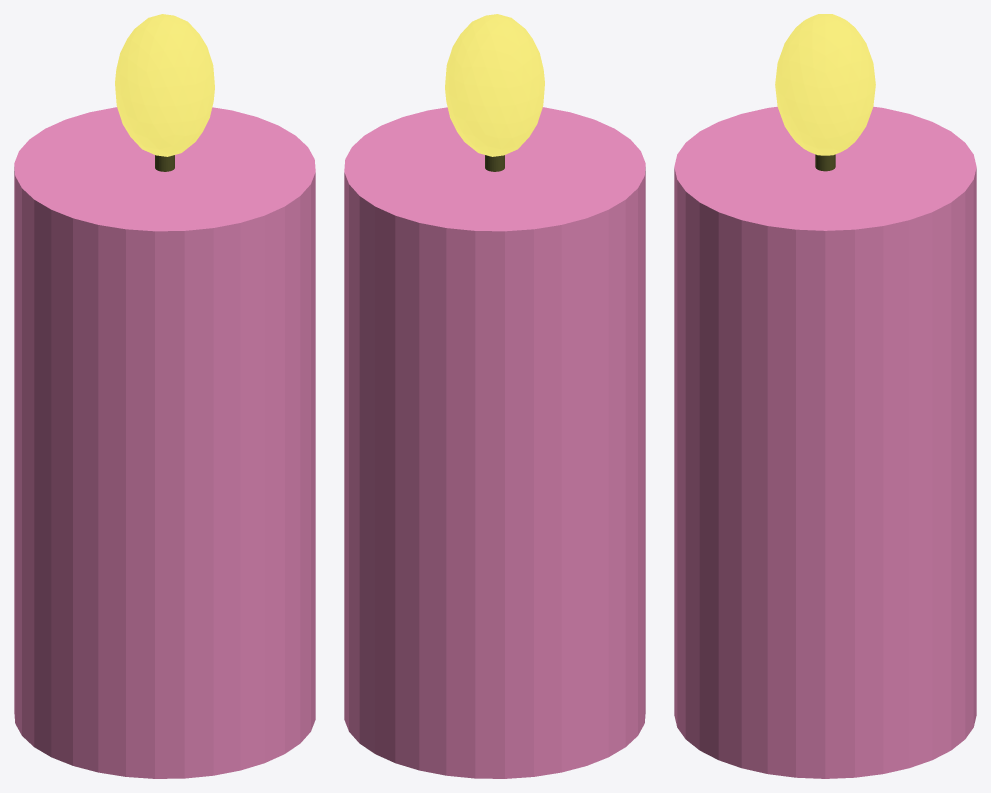
3 renders of one model, left to right at view 1: azimuth 30°, elevation 25°; view 2: azimuth 150°, elevation 25°; view 3: azimuth 270°, elevation 25°, orthographic.
Parts seen in each view (by area): view 1: Candle_Body, Flame; view 2: Candle_Body, Flame; view 3: Candle_Body, Flame.
Part boxes in pixels (x1,y1,x2,y2): Candle_Body: [14, 107, 315, 778]; Flame: [115, 14, 214, 156]; Candle_Body: [344, 107, 645, 778]; Flame: [445, 14, 544, 156]; Candle_Body: [674, 106, 976, 778]; Flame: [775, 14, 875, 155].
Size of what is drawn, in the model's own units: 0.3 by 0.765 by 0.3.
